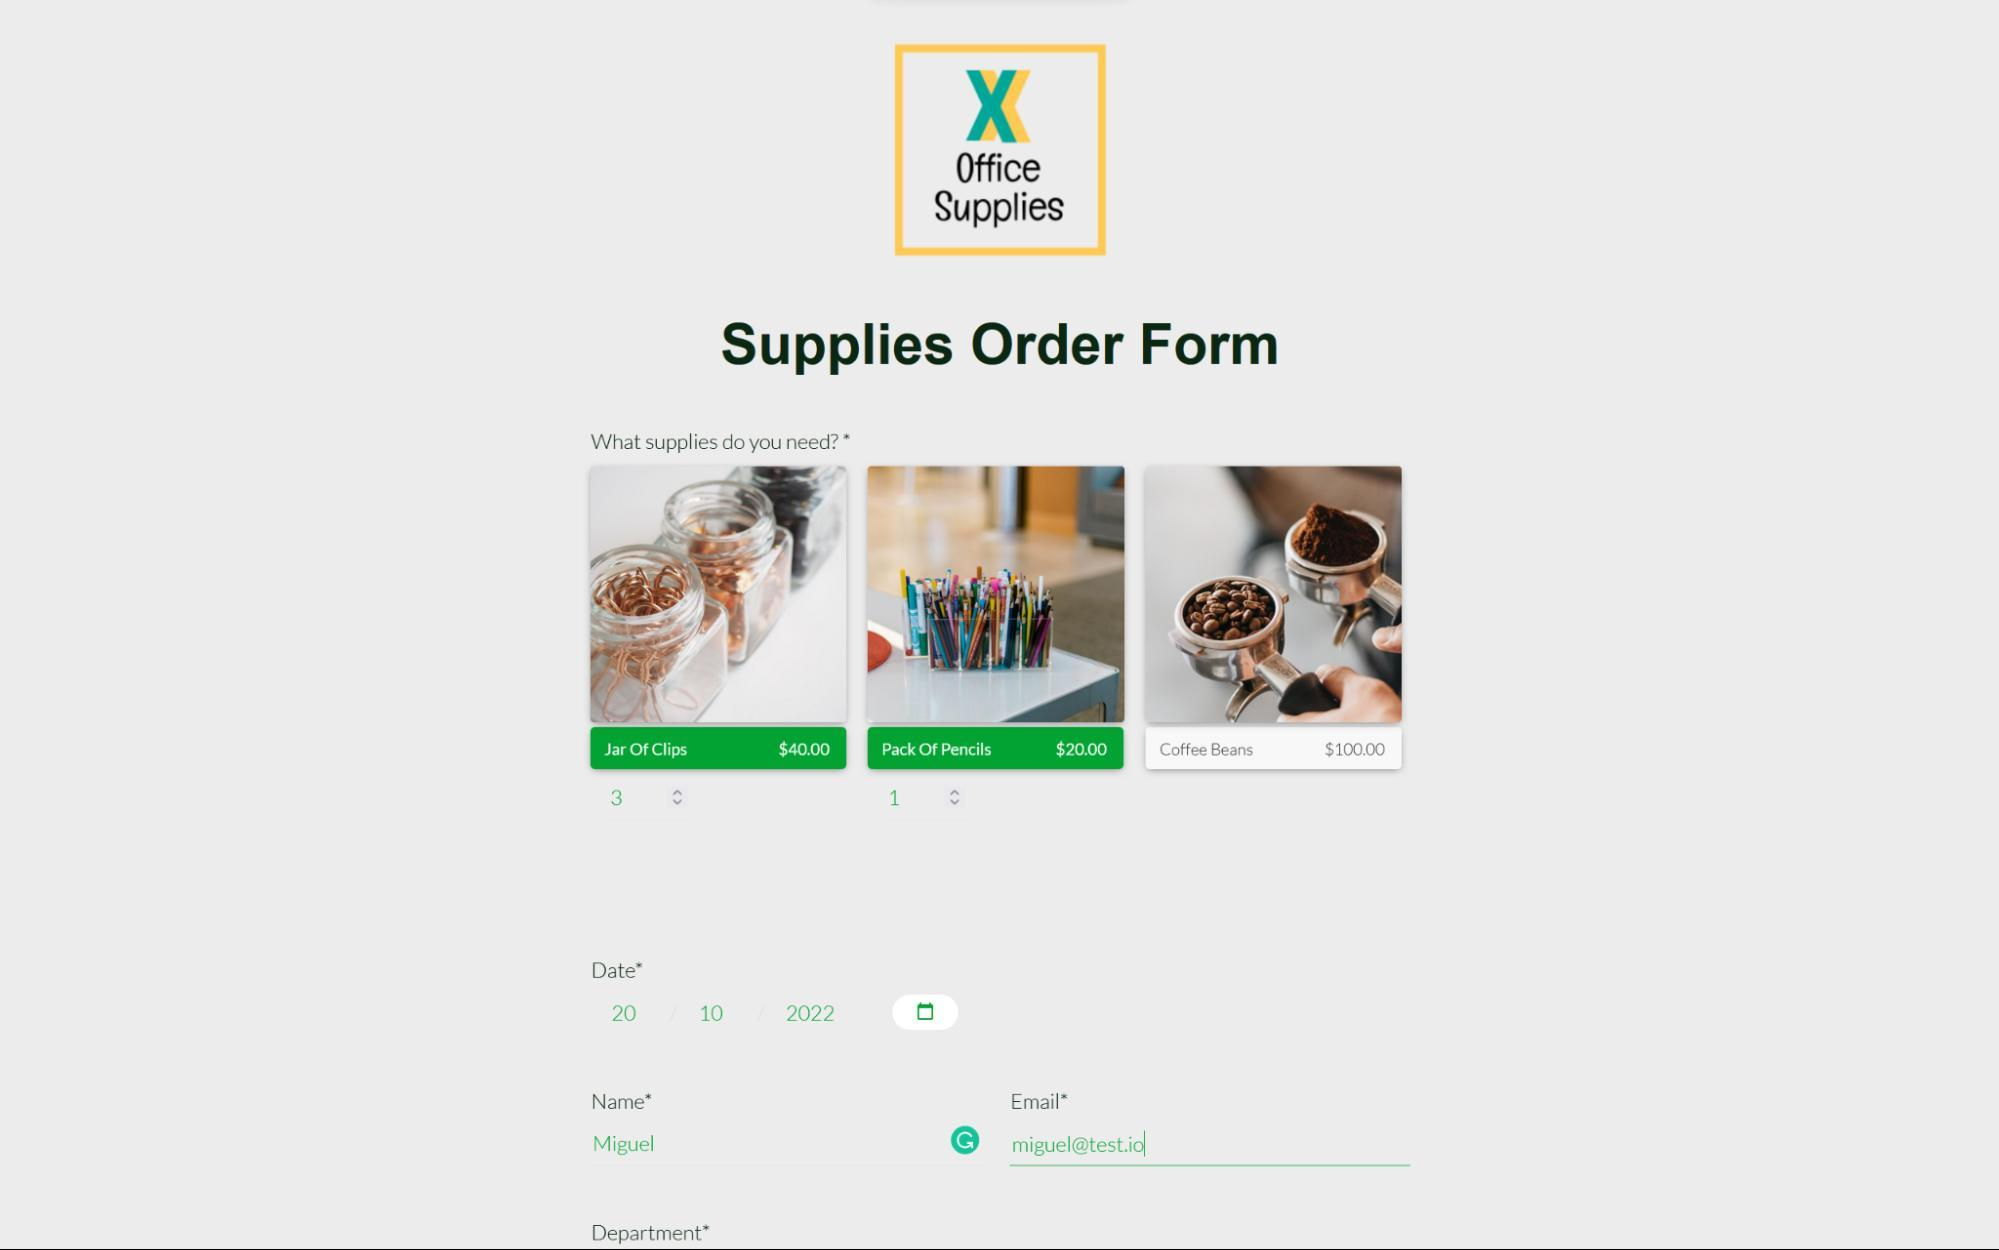button: (589, 724, 850, 770), (868, 727, 1126, 773), (1146, 729, 1403, 770)
icon: (894, 994, 961, 1035), (946, 1125, 984, 1161)
label: (713, 300, 1301, 386), (588, 428, 864, 461), (590, 1214, 727, 1246), (583, 953, 668, 991), (588, 1092, 660, 1115), (1012, 1089, 1073, 1116)
